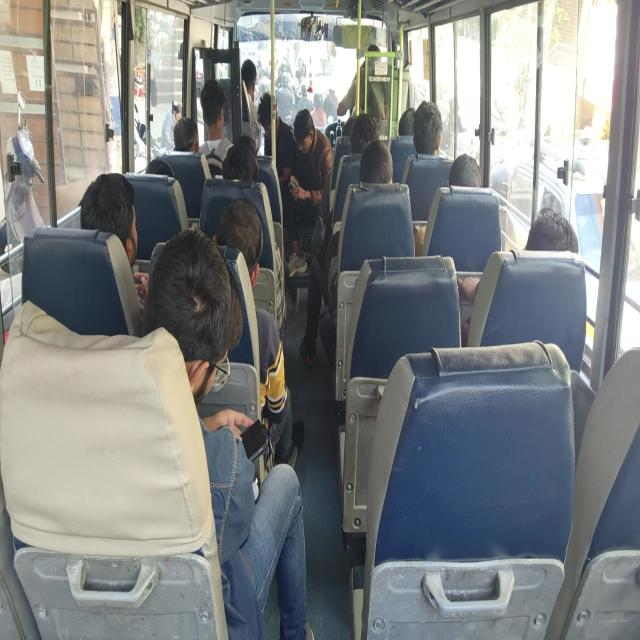person: (151, 241, 225, 379), (81, 172, 138, 256), (214, 197, 274, 274), (530, 207, 581, 266), (210, 147, 265, 195), (413, 99, 446, 172), (198, 84, 228, 134), (360, 148, 400, 184), (292, 115, 323, 161), (226, 132, 267, 161), (170, 123, 200, 161), (148, 152, 176, 188), (449, 159, 478, 193), (263, 93, 282, 144), (348, 121, 376, 150), (240, 59, 262, 95), (404, 107, 420, 132)
